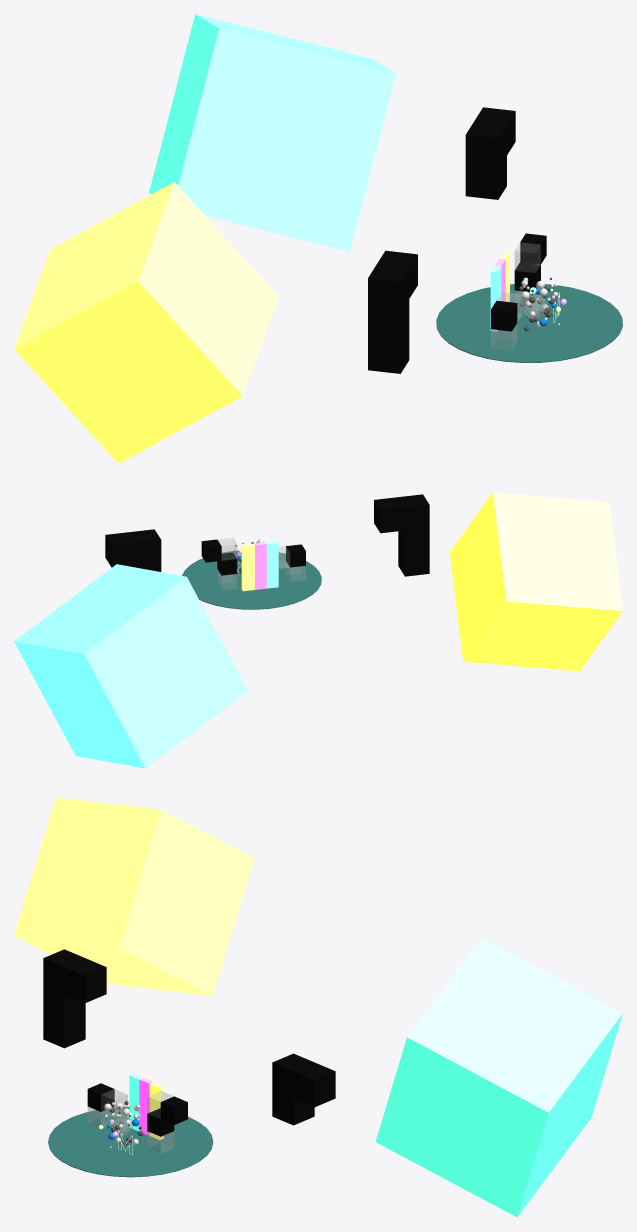
File: good_7.gltf
The picture shows the model from 3 angles, top to bottom: view 1: azimuth 30°, elevation 25°; view 2: azimuth 150°, elevation 25°; view 3: azimuth 270°, elevation 25°; orthographic projection. The views are drawn at different scales.
Parts seen in each view (by area): view 1: Cube.018, Cube.017, Cylinder, Cube.014, Cube.009, Cube.013, Cube.016, Cube.008, Cube.012, Cube.015, Cube.001, Cube.005 (+2 smaller); view 2: Cube.017, Cube.018, Cylinder, Cube.015, Cube.012, Cube.009, Cube.014, Cube.016, Cube.013, Cube.006, Cube.007, Cube.011 (+3 smaller); view 3: Cube.017, Cube.018, Cylinder, Cube.012, Cube.015, Cube.016, Cube.009, Cube.014, Cube.008, Cube.013, Cube.005, Cube.001.
Part boxes in pixels (<box>): Cube.018: <box>14,182,278,463</box>; Cube.017: <box>149,14,395,251</box>; Cylinder: <box>436,284,622,362</box>; Cube.014: <box>368,264,409,312</box>; Cube.009: <box>465,121,506,169</box>; Cube.013: <box>368,299,409,343</box>; Cube.016: <box>368,330,409,373</box>; Cube.008: <box>465,156,506,199</box>; Cube.012: <box>474,107,515,154</box>; Cube.015: <box>377,250,417,298</box>; Cube.001: <box>491,300,517,331</box>; Cube.005: <box>520,233,546,264</box>; Cube.017: <box>14,564,248,768</box>; Cube.018: <box>450,492,622,671</box>; Cylinder: <box>182,550,321,609</box>; Cube.015: <box>374,497,404,533</box>; Cube.012: <box>105,532,136,567</box>; Cube.009: <box>130,529,161,565</box>; Cube.014: <box>398,494,429,530</box>; Cube.016: <box>398,543,429,576</box>; Cube.013: <box>398,527,429,553</box>; Cube.006: <box>241,543,254,591</box>; Cube.007: <box>265,541,278,588</box>; Cube.011: <box>253,542,266,589</box>; Cube.017: <box>375,937,622,1217</box>; Cube.018: <box>14,797,254,995</box>; Cylinder: <box>48,1107,213,1177</box>; Cube.012: <box>293,1062,335,1107</box>; Cube.015: <box>64,958,106,1002</box>; Cube.016: <box>43,1012,85,1048</box>; Cube.009: <box>272,1053,314,1098</box>; Cube.014: <box>43,949,84,993</box>; Cube.008: <box>272,1089,314,1125</box>; Cube.013: <box>43,985,85,1021</box>; Cube.005: <box>160,1096,187,1124</box>; Cube.001: <box>87,1083,114,1111</box>.
Size of the model in its own units: 403 by 187 by 404.
